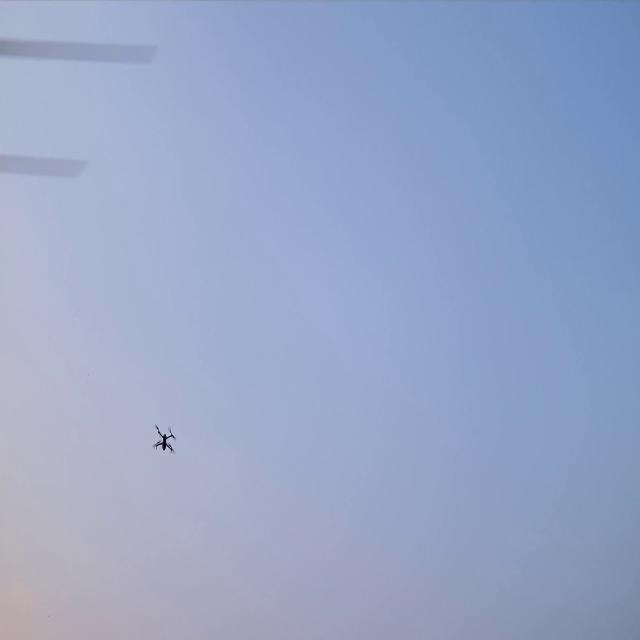UAV: (150, 421, 177, 456)
